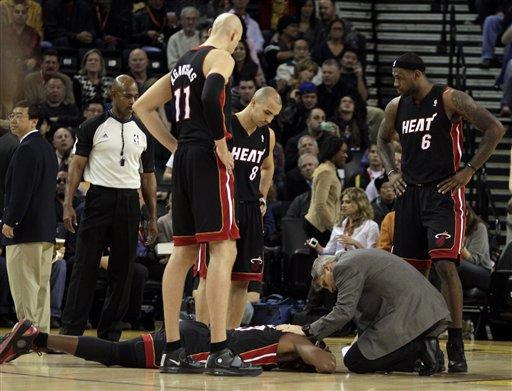10+: (6, 10, 512, 360)
down: (1, 313, 336, 382)
